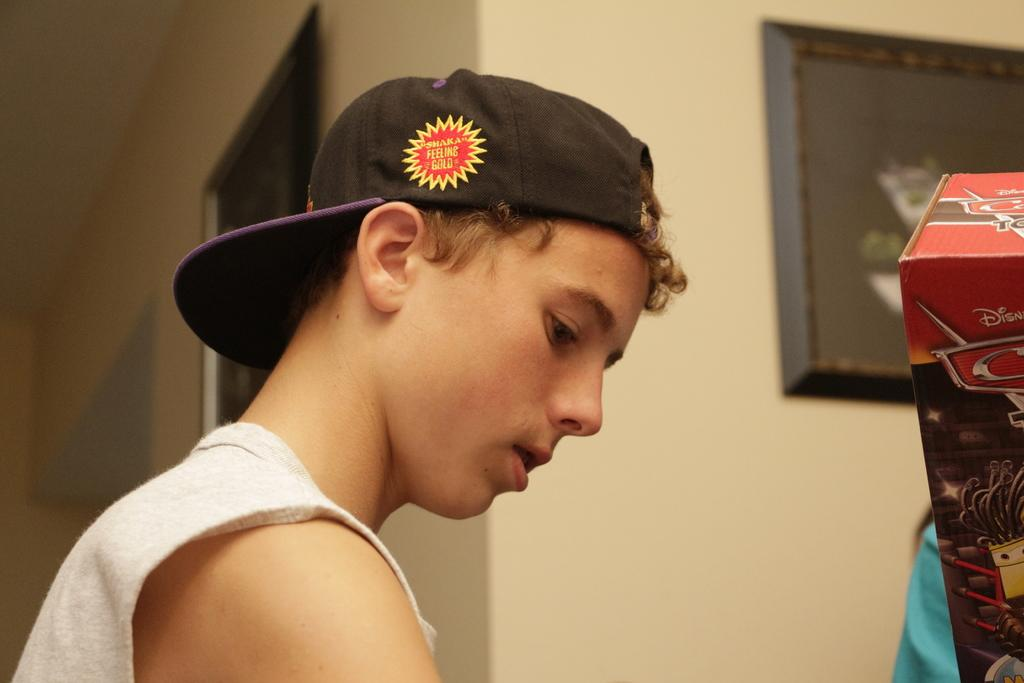Hat: (172, 66, 650, 372)
